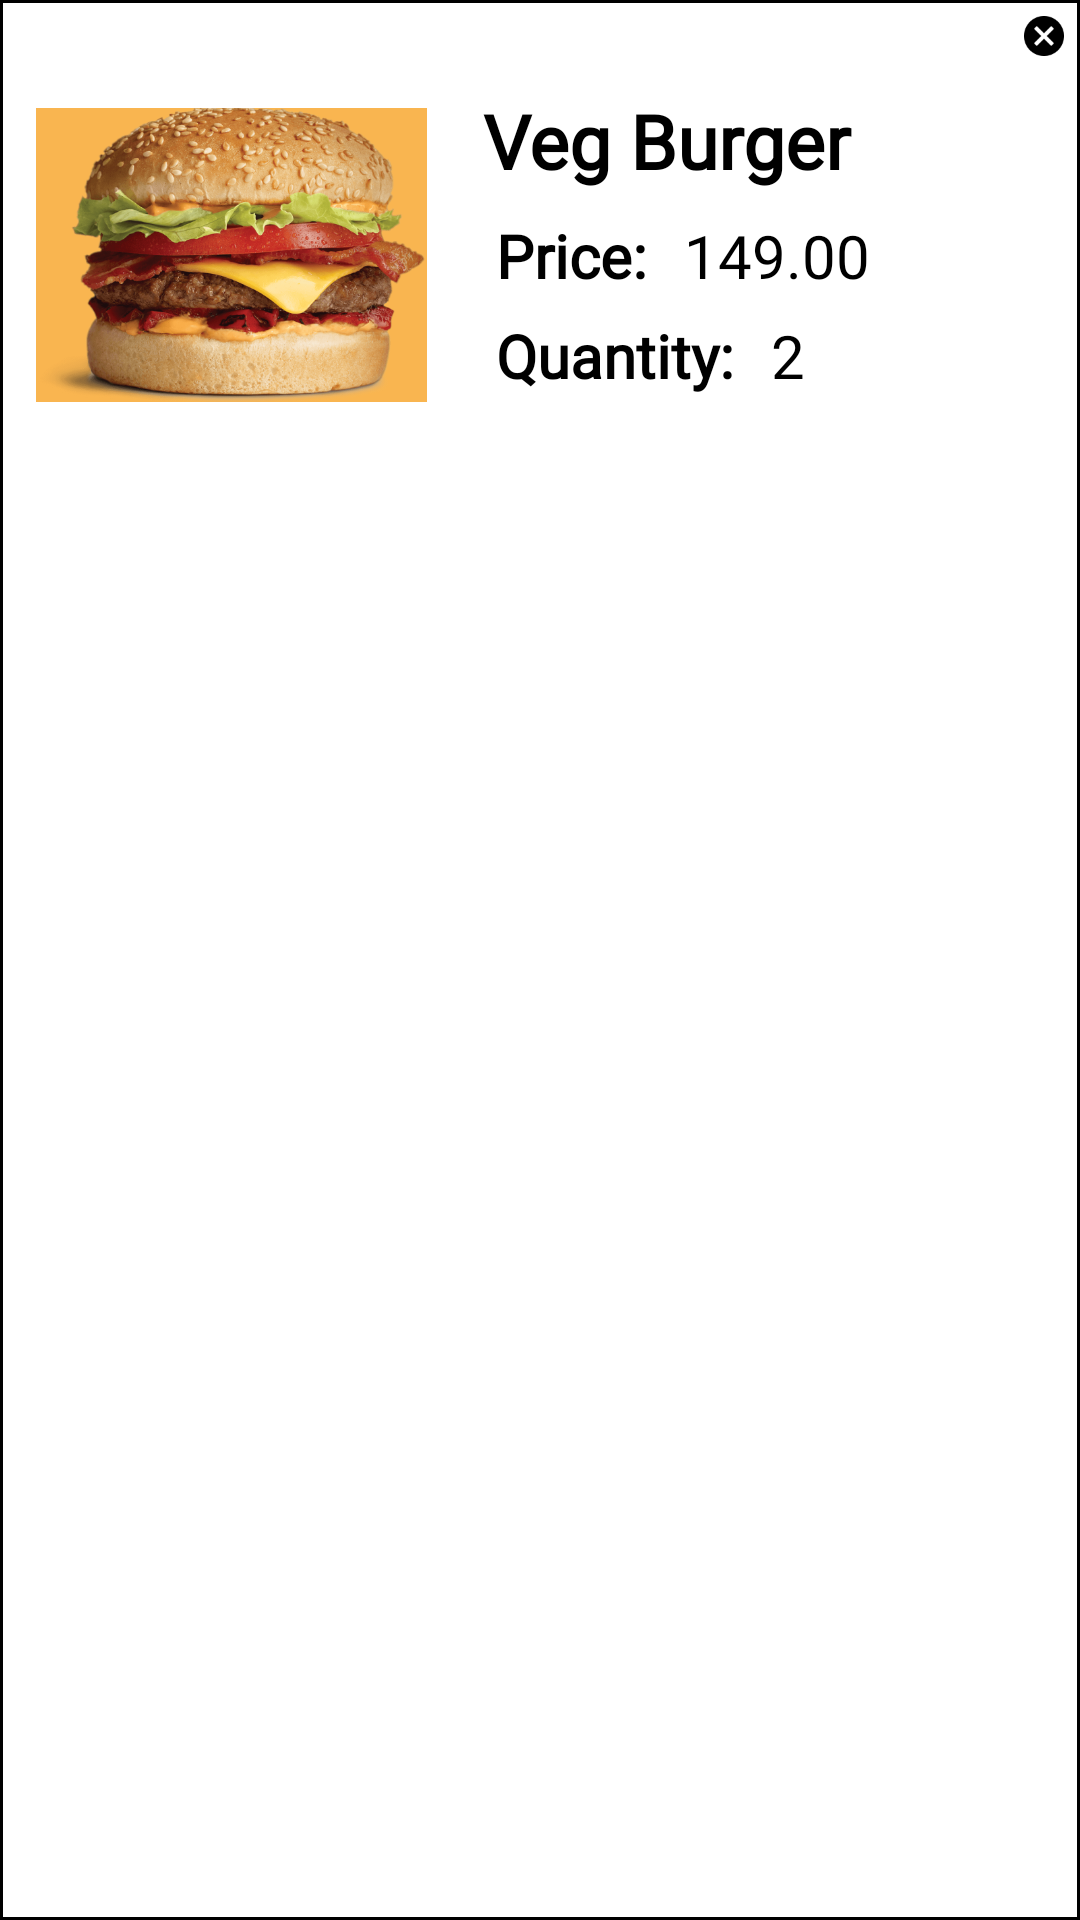

Icons on this 1080w x 1920h Android screen, each with its box as bbox=[x1, y1, x2, y2]:
Close icon: bbox=[1024, 16, 1064, 56]
